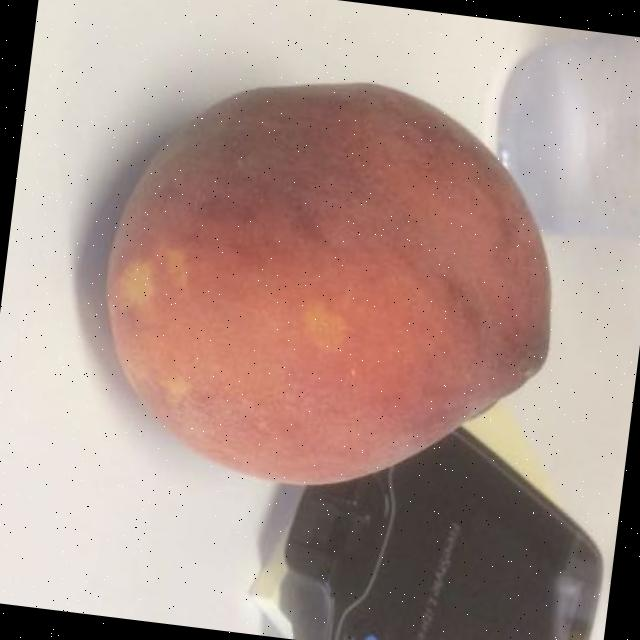peach: (110, 85, 548, 474)
